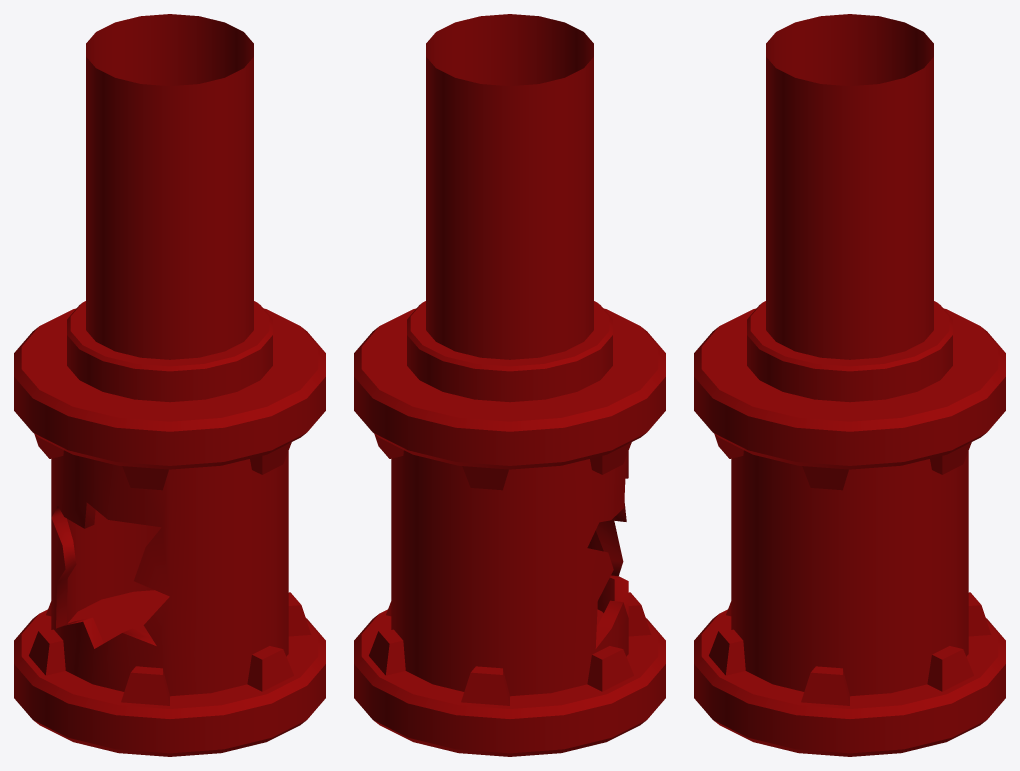
The model's file is SlimeContainerBroken.fbx.
3 views of the same model, side by side, from view 1: azimuth 30°, elevation 25°; view 2: azimuth 150°, elevation 25°; view 3: azimuth 270°, elevation 25° (orthographic).
Visible parts, largest first — view 1: Cylinder010, SlimeContainerGlass; view 2: Cylinder010, SlimeContainerGlass; view 3: Cylinder010, SlimeContainerGlass.
Part boxes in pixels (x1=…): Cylinder010: x1=14, y1=14, x2=325, y2=756; SlimeContainerGlass: x1=51, y1=450, x2=288, y2=696; Cylinder010: x1=354, y1=14, x2=665, y2=756; SlimeContainerGlass: x1=391, y1=450, x2=628, y2=696; Cylinder010: x1=694, y1=14, x2=1005, y2=756; SlimeContainerGlass: x1=731, y1=450, x2=968, y2=696.
Bounding box in the file's own units: 41.96 × 94 × 41.32.
